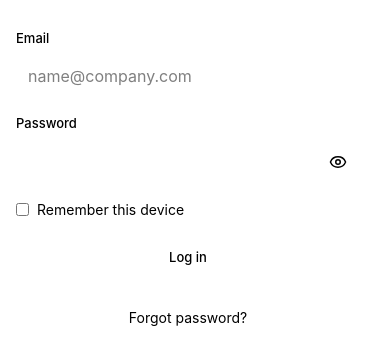
Scenario: Login › shows an error message for invalid credentials
In the field labelled "Email": [188, 76] box [16,54,360,98], type "test@example.com"
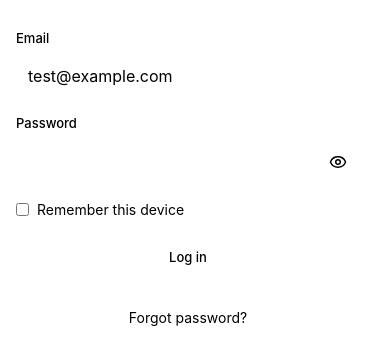
In the password field labelled "Password": [188, 162] box [16,140,360,184], type "wrongpass"
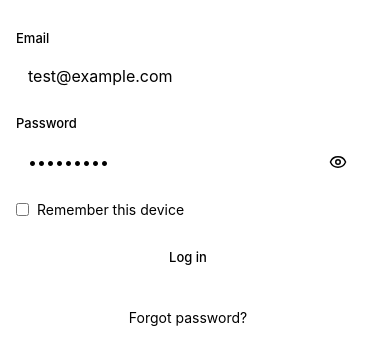
Click the button "Log in": [188, 258] box [16,236,360,280]
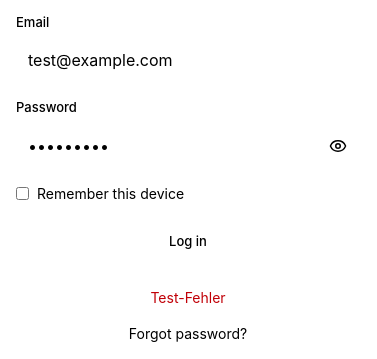
expect the text "Test-Fehler" is shown: met, box [150,288,226,306]
